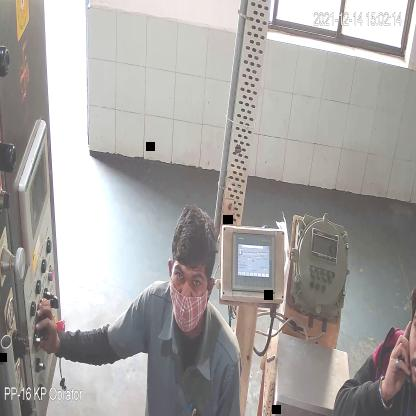no_goggles: (172, 266, 206, 299)
